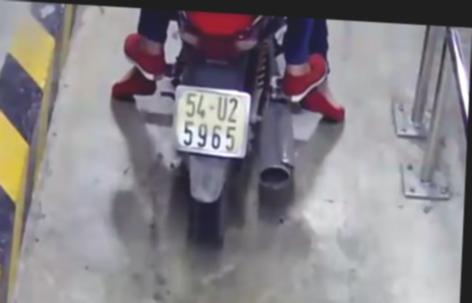License_Plate: (166, 80, 257, 164)
